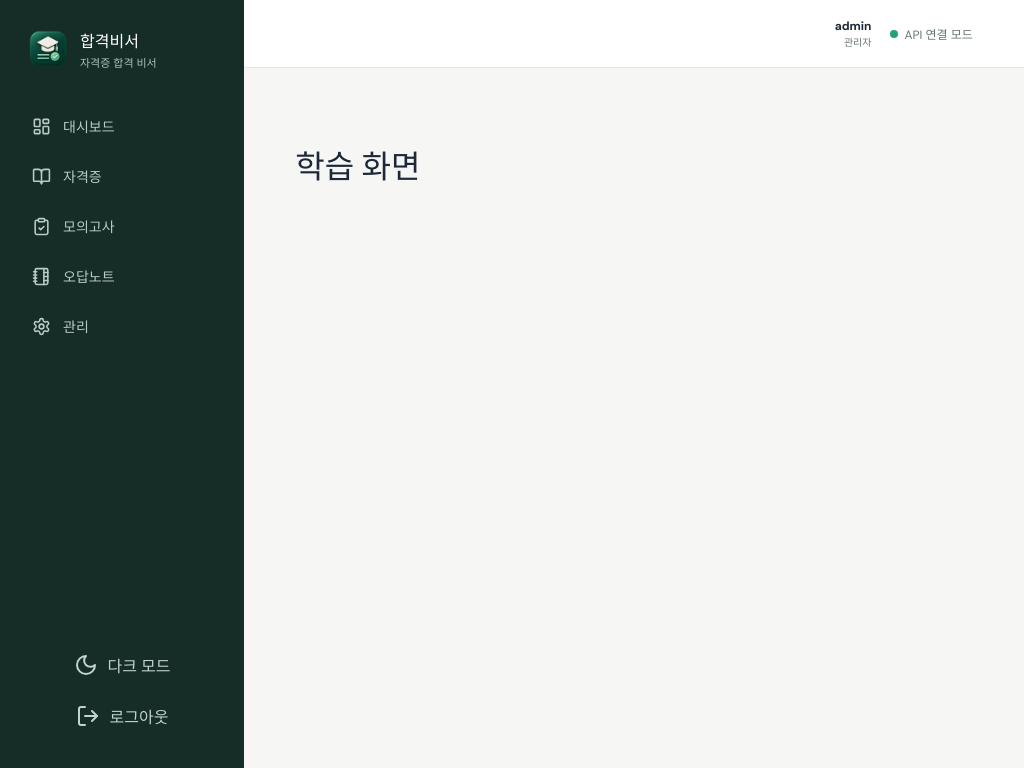
Test: Study exit guard › keeps studying when the user cancels navigation
Click the link "대시보드" at (73, 126), box top-left (32, 116), bottom-right (114, 136)
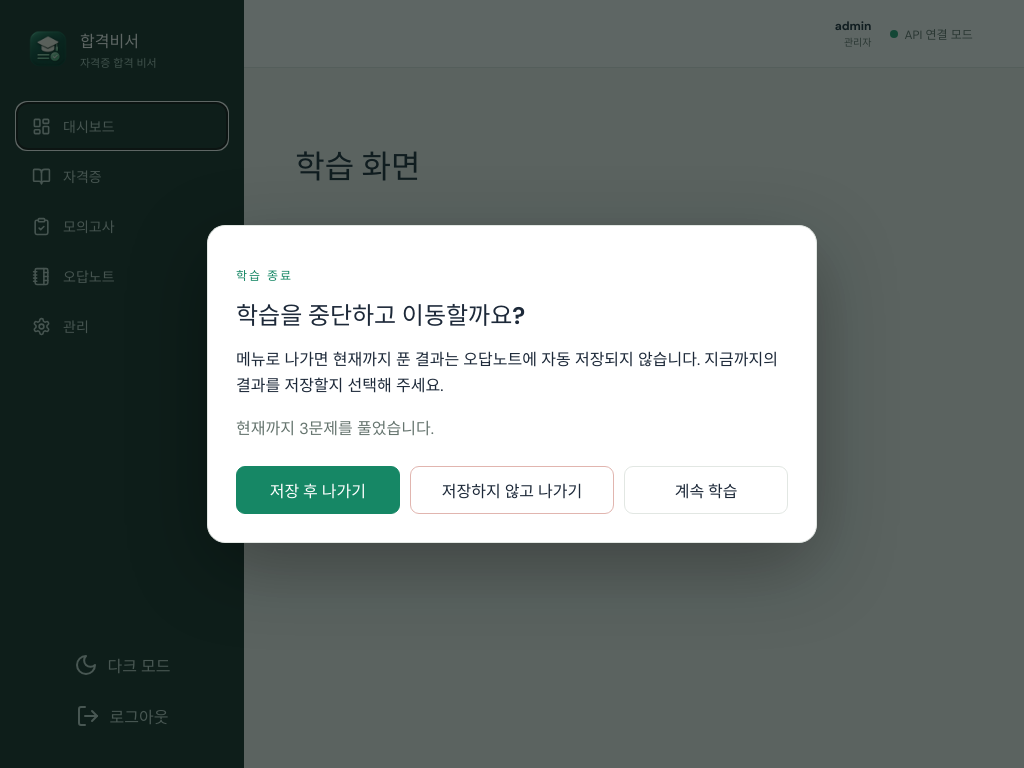
Now the dialog shows "현재까지 3문제를 풀었습니다.", box top-left (207, 225), bottom-right (817, 543)
Now the button "저장 후 나가기" is shown, box top-left (236, 466), bottom-right (400, 514)
Now the button "저장하지 않고 나가기" is shown, box top-left (410, 466), bottom-right (614, 514)
Click the button "계속 학습" at (706, 490), box top-left (624, 466), bottom-right (788, 514)
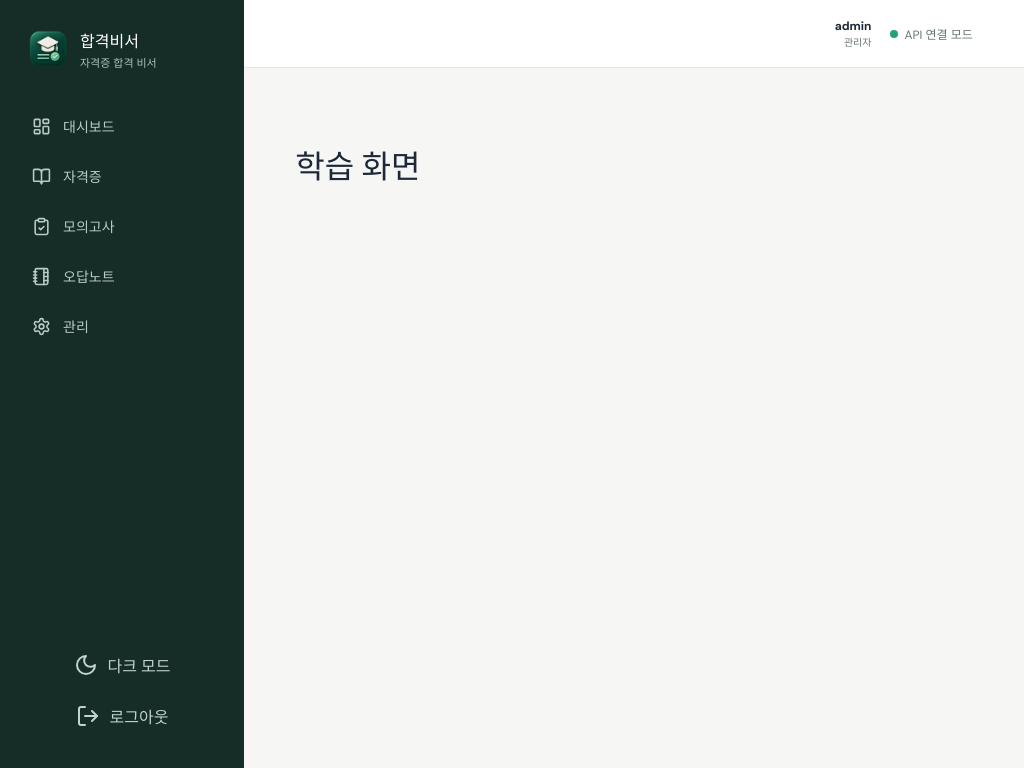
Expected: the heading "학습 화면" is shown, top-left (295, 146), bottom-right (420, 188)
Now the dialog is gone
